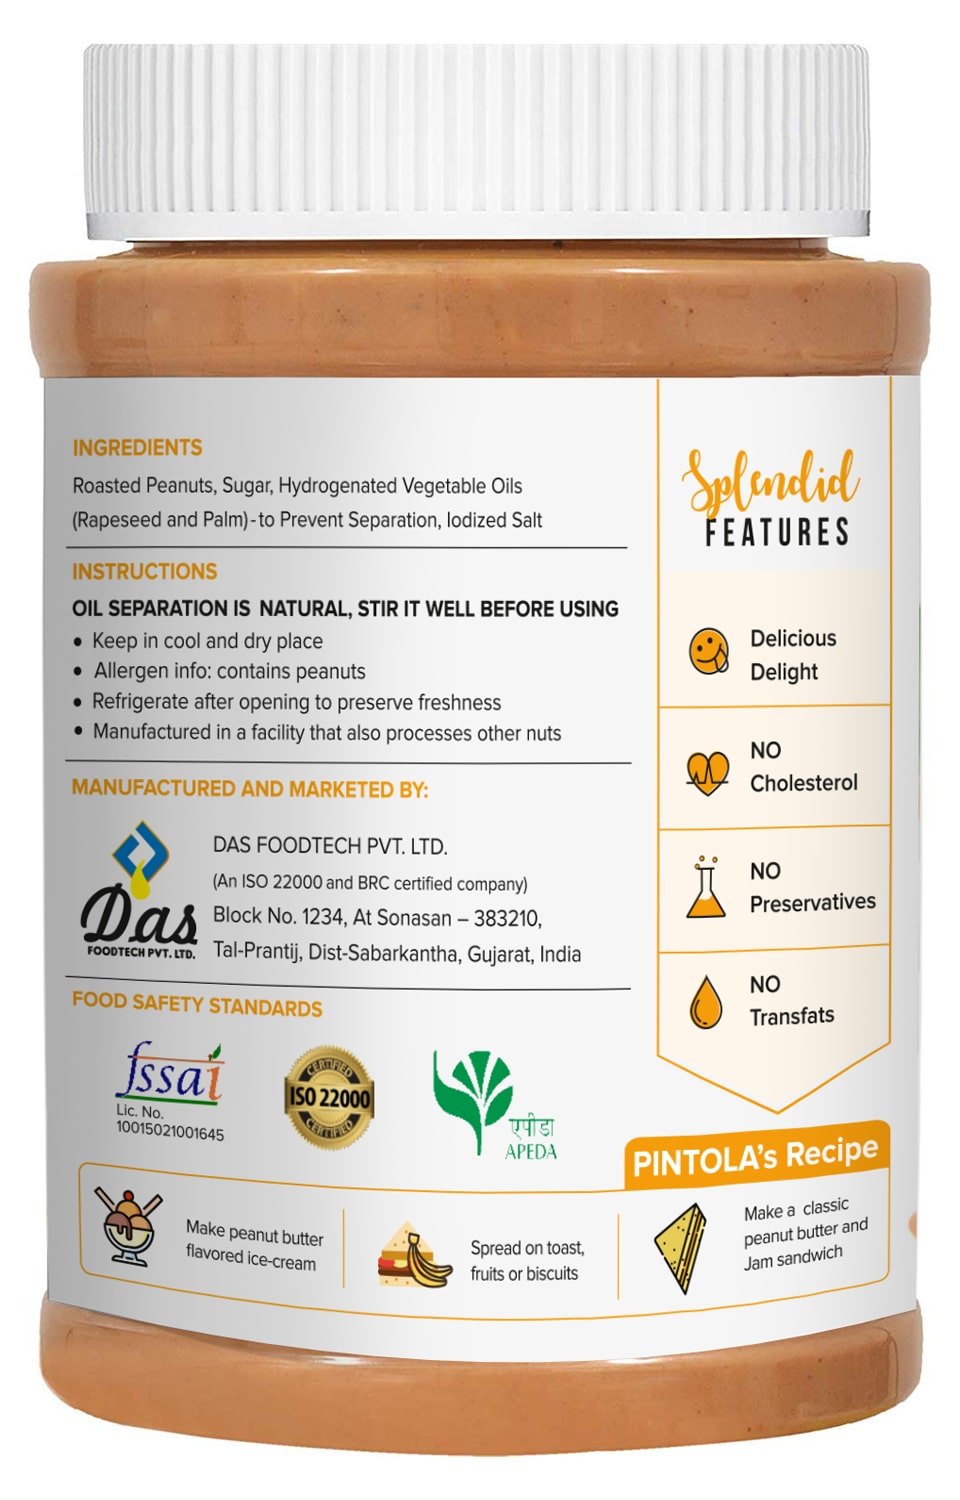fssai: (113, 1039, 225, 1102)
